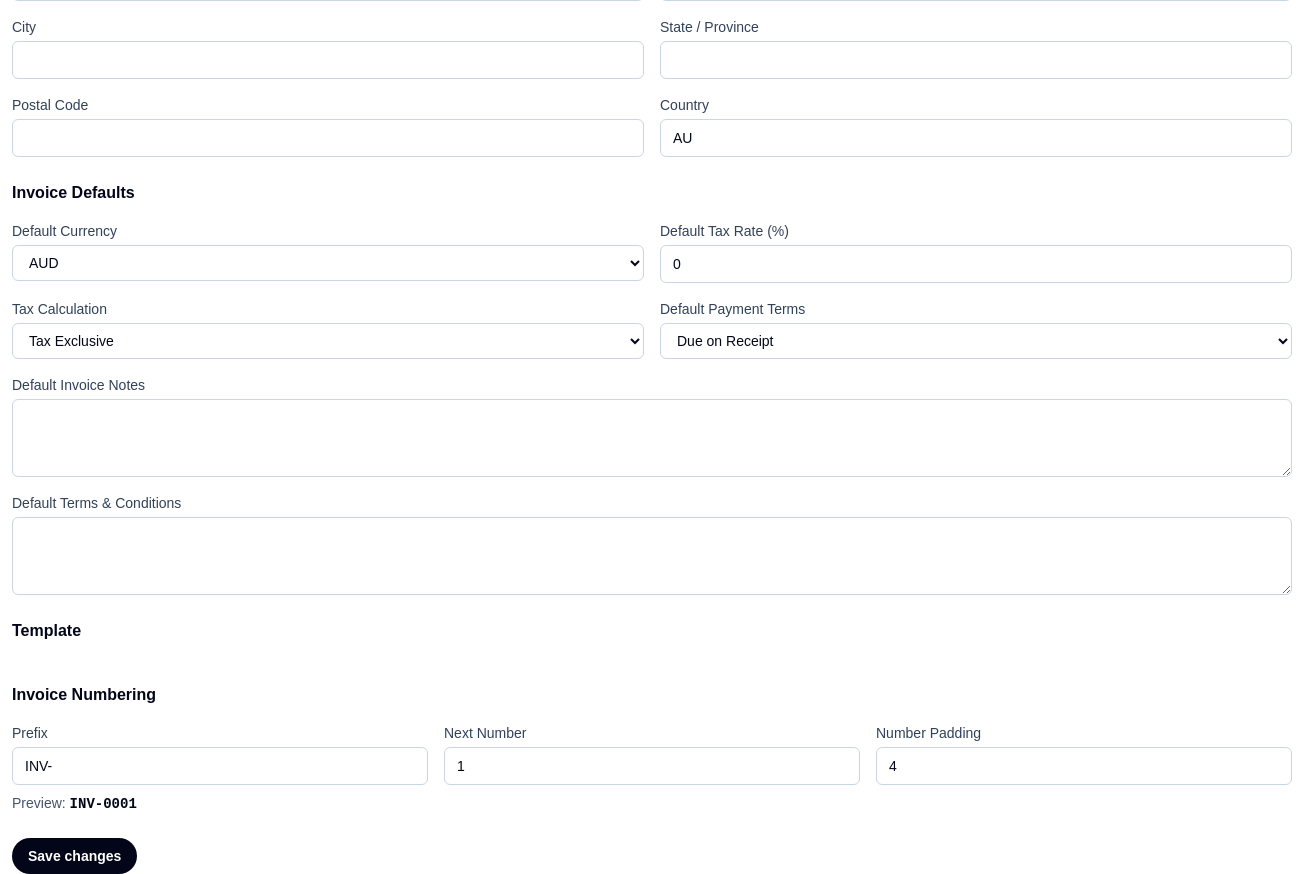
Test case: BusinessProfileForm › invoice numbering (IG-54) › shows a live preview of the generated invoice number that updates as the fields change
The image size is (1304, 874).
(page scrolled)
Expected: the text "INV-0001" is shown, [70, 796, 137, 812]
Step 1. Replace the text in the field labelled "Prefix" with "ACME-" → (220, 766), box [12, 747, 428, 785]
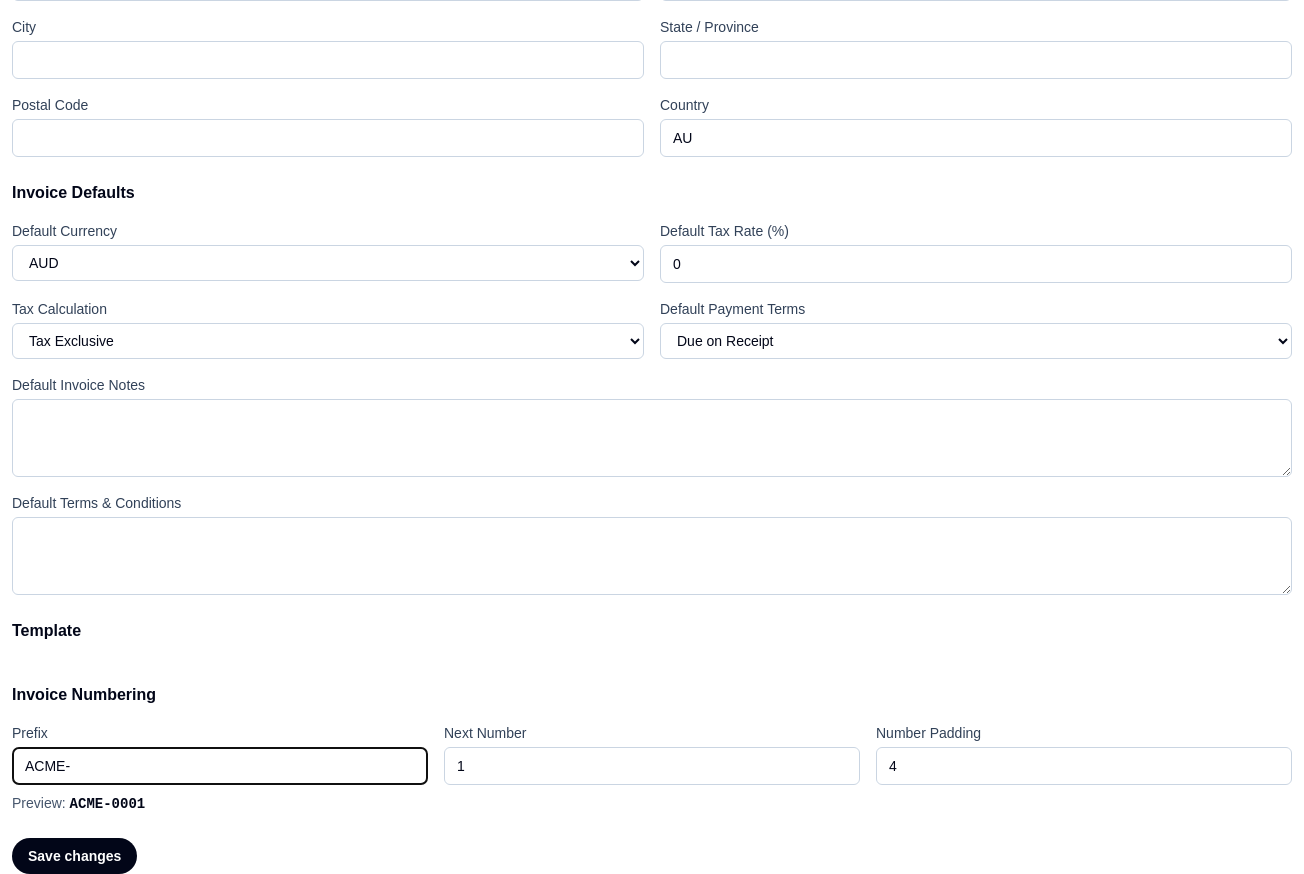
Step 2. Replace the text in the number field labelled "Next Number" with "500" → (652, 766), box [444, 747, 860, 785]
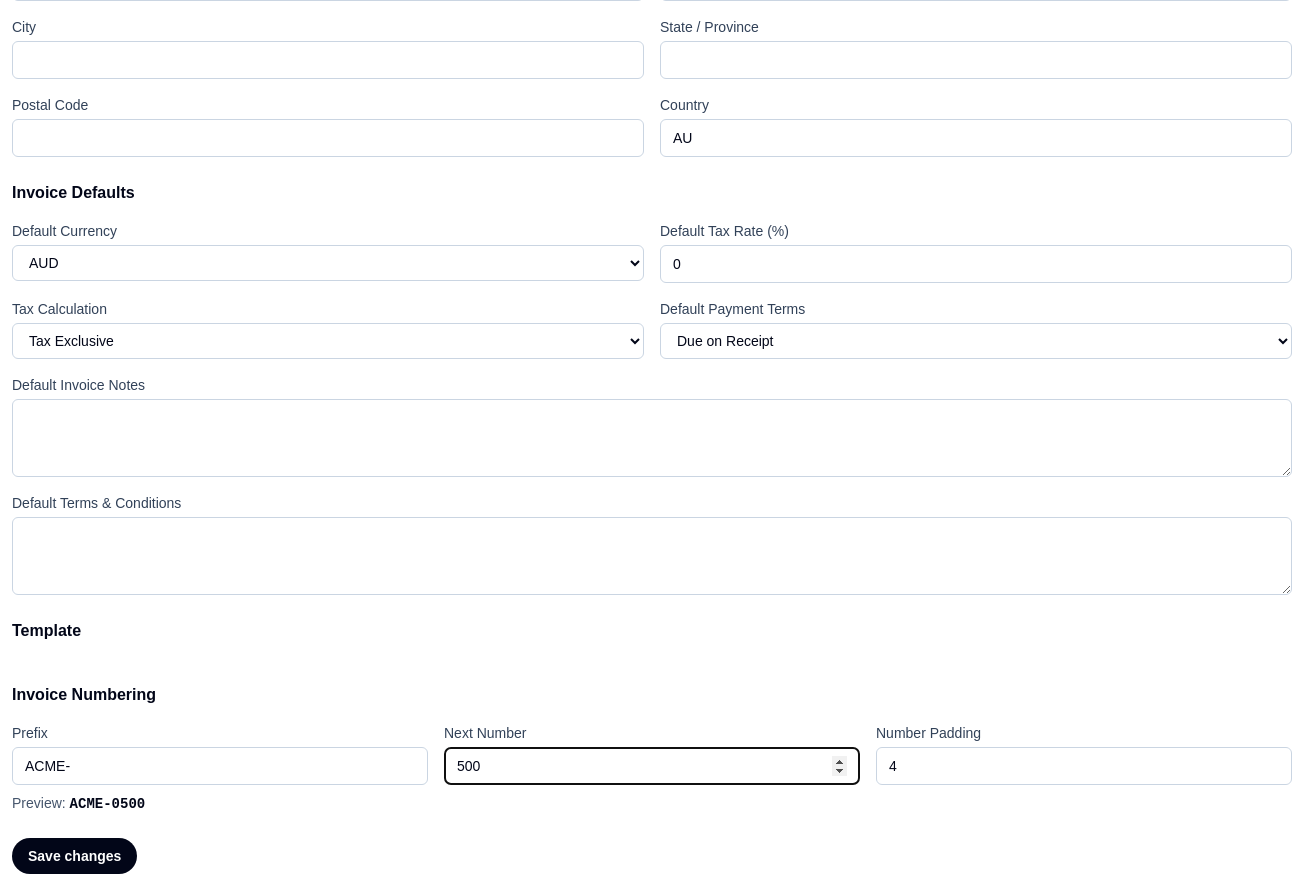
Now the text "ACME-0500" is shown, box [70, 796, 145, 812]
